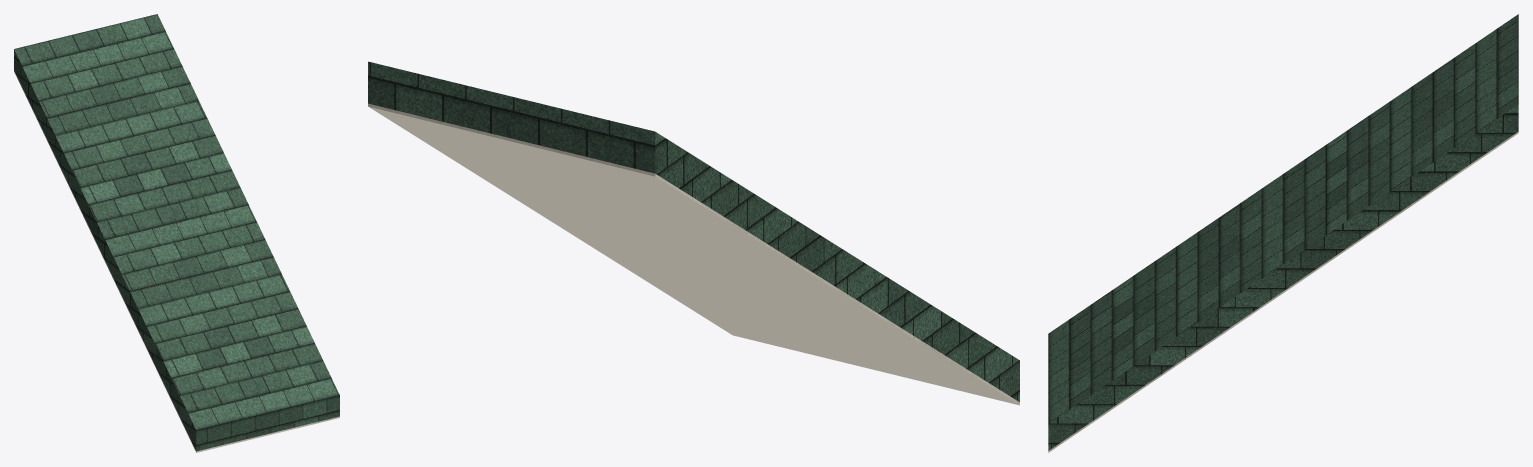
File: cross_slope.glb
3 views of the same model, side by side, from view 1: azimuth 30°, elevation 25°; view 2: azimuth 150°, elevation 25°; view 3: azimuth 270°, elevation 25° (orthographic). The views are drawn at different scales.
Parts seen in each view (by area): view 1: cross_slope_shingle, cross_slope_plaster; view 2: cross_slope_plaster, cross_slope_shingle; view 3: cross_slope_shingle, cross_slope_plaster.
Part boxes in pixels (left/top/right/bottom): cross_slope_shingle: left=14, top=14, right=339, bottom=451; cross_slope_plaster: left=14, top=70, right=339, bottom=452; cross_slope_plaster: left=368, top=103, right=1019, bottom=405; cross_slope_shingle: left=368, top=61, right=1019, bottom=402; cross_slope_shingle: left=1048, top=14, right=1518, bottom=450; cross_slope_plaster: left=1048, top=131, right=1518, bottom=452.
Bounding box in the file's own units: 2 × 3.6 × 4.4.
2 materials, 2 textured.
